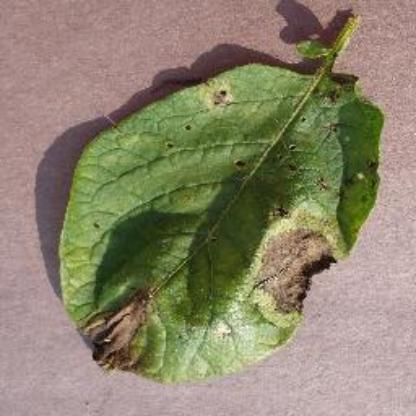Late-Blight: (54, 13, 388, 387)
